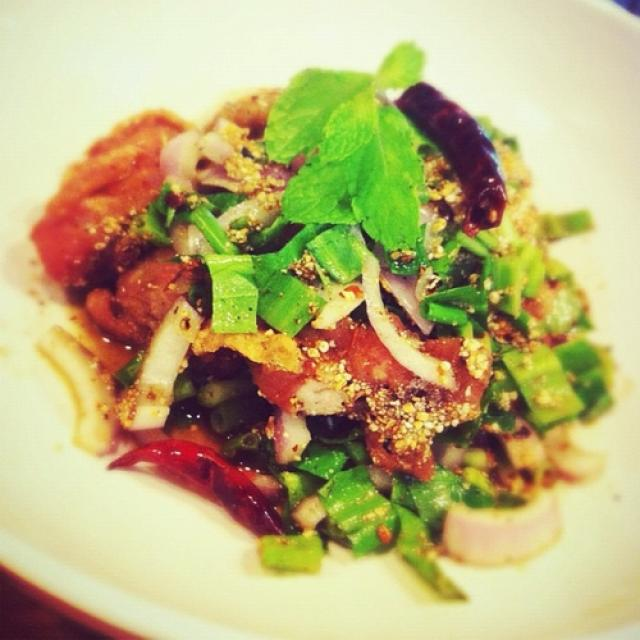鸡肉料理 含炸鸡: (11, 16, 634, 628)
